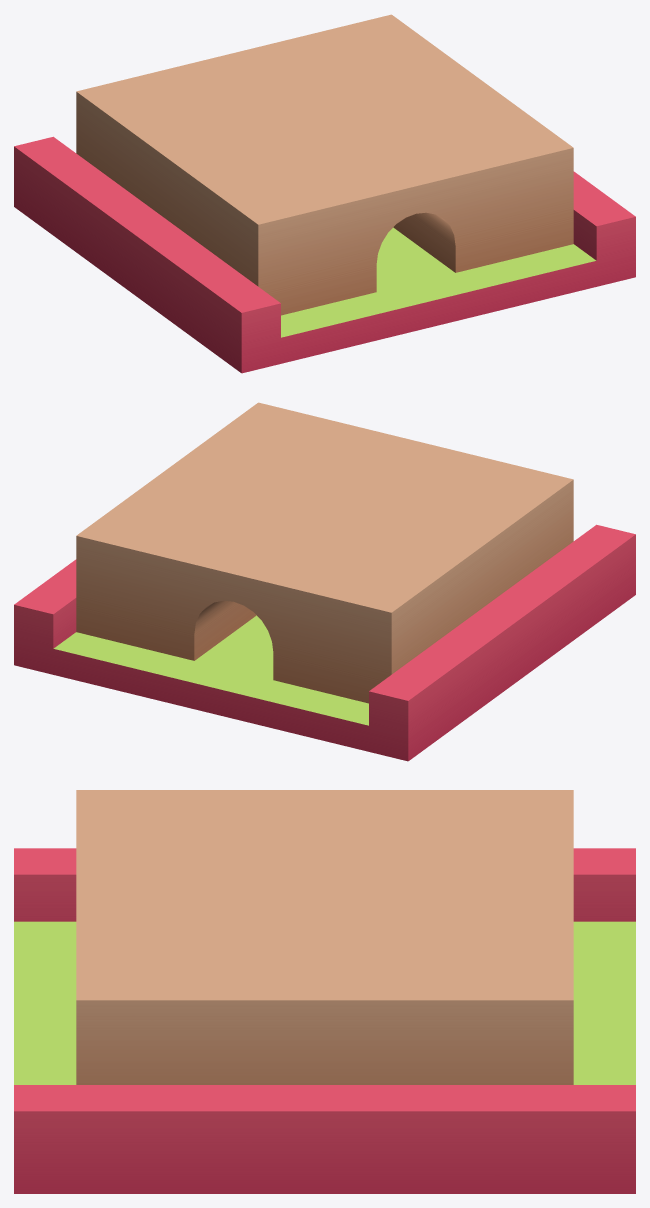
File: tunnel-narrow.gltf
3 renders of one model, top to bottom at view 1: azimuth 30°, elevation 25°; view 2: azimuth 150°, elevation 25°; view 3: azimuth 270°, elevation 25°, orthographic. The views are drawn at different scales.
Parts seen in each view (by area): view 1: tunnel-narrow; view 2: tunnel-narrow; view 3: tunnel-narrow.
Part boxes in pixels (x1,y1,x2,y2): tunnel-narrow: (14, 14, 635, 373); tunnel-narrow: (14, 402, 635, 761); tunnel-narrow: (14, 790, 635, 1193).
Bounding box in the file's own units: 0.9999 × 0.2966 × 0.9999.
1 material, 1 textured.
